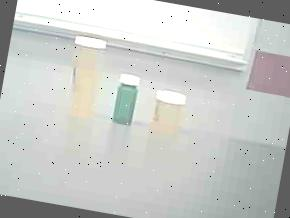Bottle A: (57, 28, 117, 125)
Bottle B: (144, 84, 190, 141)
Bottle C: (107, 67, 147, 130)
